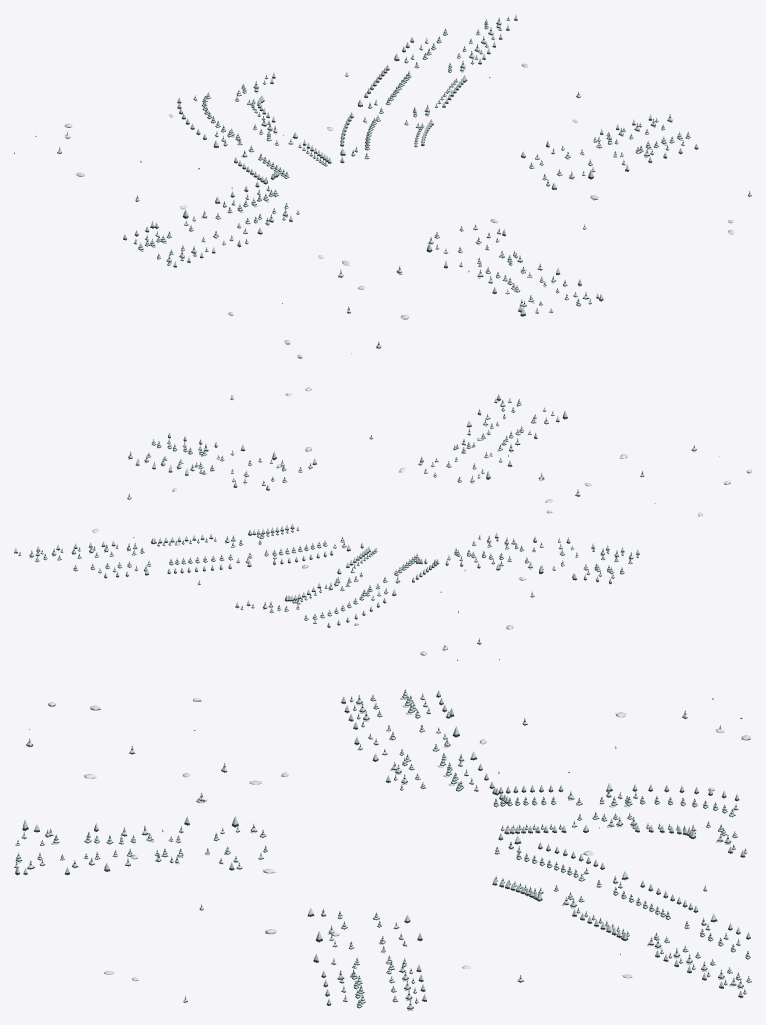
File: Fill_0_0.fbx
3 renders of one model, top to bottom at view 1: azimuth 30°, elevation 25°; view 2: azimuth 150°, elevation 25°; view 3: azimuth 270°, elevation 25°, orthographic. The views are drawn at different scales.
Visible parts, largest first — view 1: Fill_0_0; view 2: Fill_0_0; view 3: Fill_0_0.
Part boxes in pixels (box(x1,y1,x2,y2)): Fill_0_0: box(14, 14, 751, 358); Fill_0_0: box(14, 387, 751, 660); Fill_0_0: box(14, 689, 751, 1010).
Bounding box in the file's own units: 59050 × 1485 × 59202.
